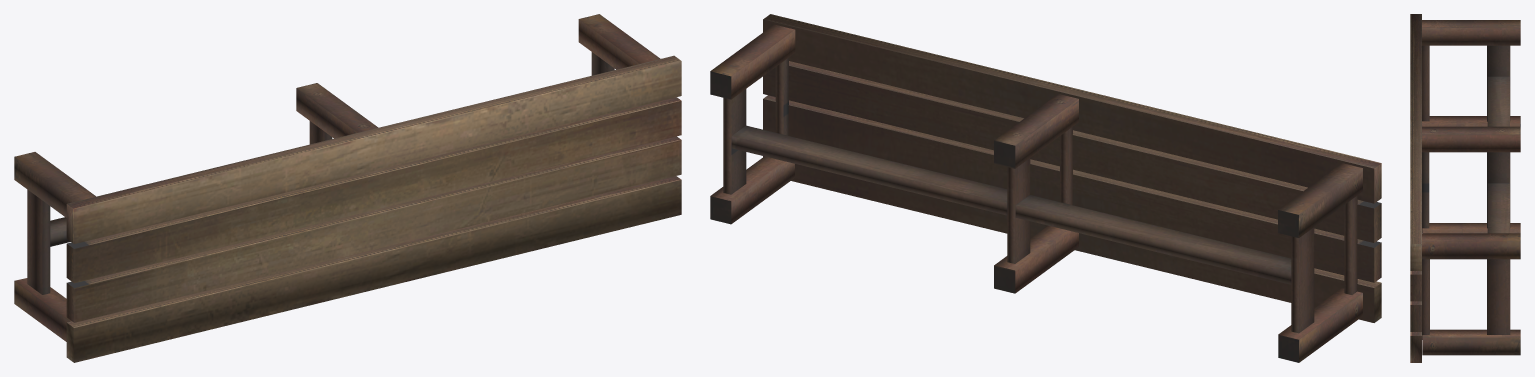
File: p_jun_bench_wood_02_LOD0.obj
The picture shows the model from 3 angles, left to right: view 1: azimuth 30°, elevation 25°; view 2: azimuth 150°, elevation 25°; view 3: azimuth 270°, elevation 25°; orthographic projection. The views are drawn at different scales.
Parts seen in each view (by area): view 1: mtl_p_jun_bench_wood_01; view 2: mtl_p_jun_bench_wood_01; view 3: mtl_p_jun_bench_wood_01.
Boxes of the visible parts, box(x1,y1,x2,y2) form: mtl_p_jun_bench_wood_01: box(14, 14, 681, 362); mtl_p_jun_bench_wood_01: box(710, 14, 1381, 362); mtl_p_jun_bench_wood_01: box(1410, 14, 1520, 362).
Size of the model in its own units: 217 by 52.55 by 44.05.
